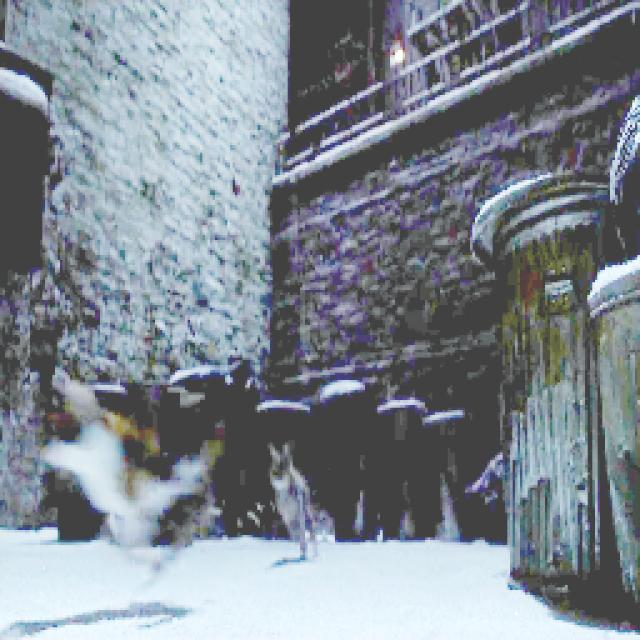cat: (47, 379, 225, 586), (261, 436, 332, 567)
